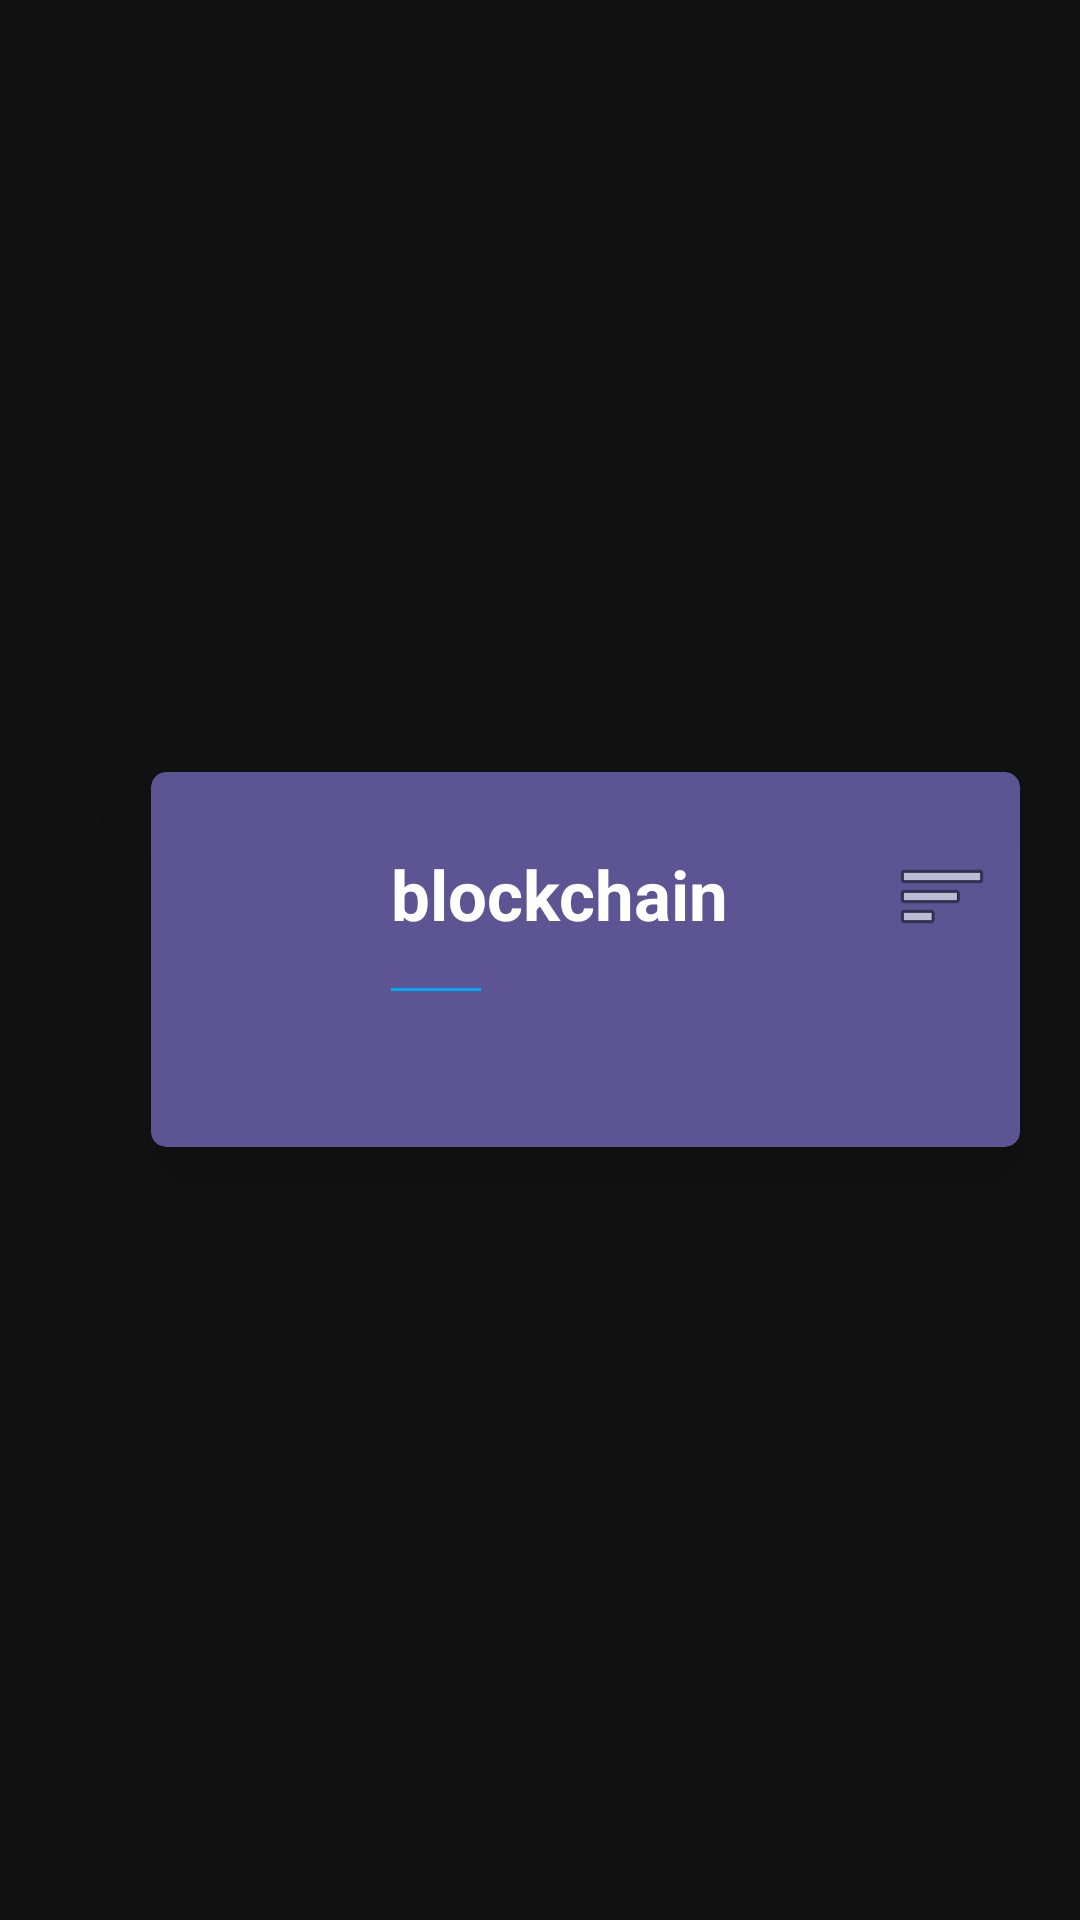

Where icons sit on this 1080x1920 app screen, as (x1, y1, x2, y2):
sort by size: (901, 870, 983, 923)
